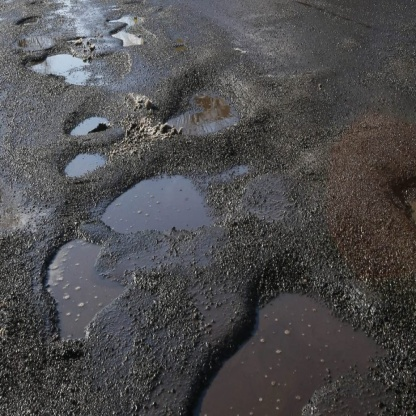pothole: (186, 249, 414, 416), (96, 154, 250, 250), (23, 234, 133, 362), (140, 72, 269, 140), (9, 36, 112, 89), (41, 143, 120, 197), (48, 99, 131, 142)
